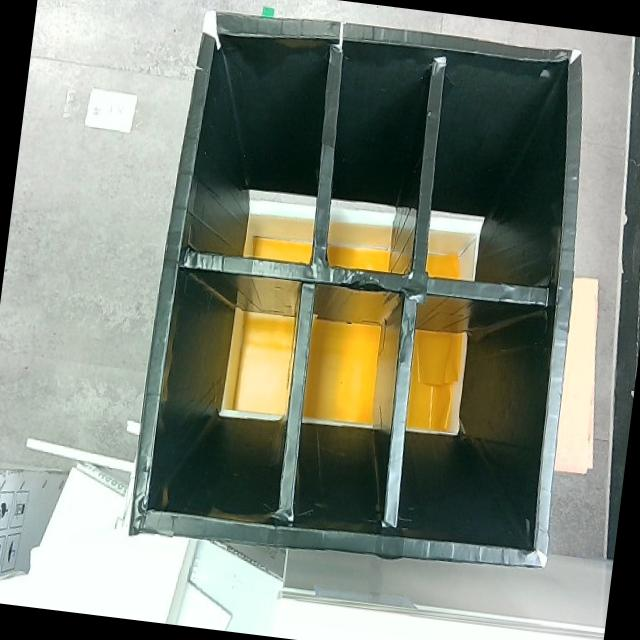box: (126, 1, 609, 582)
